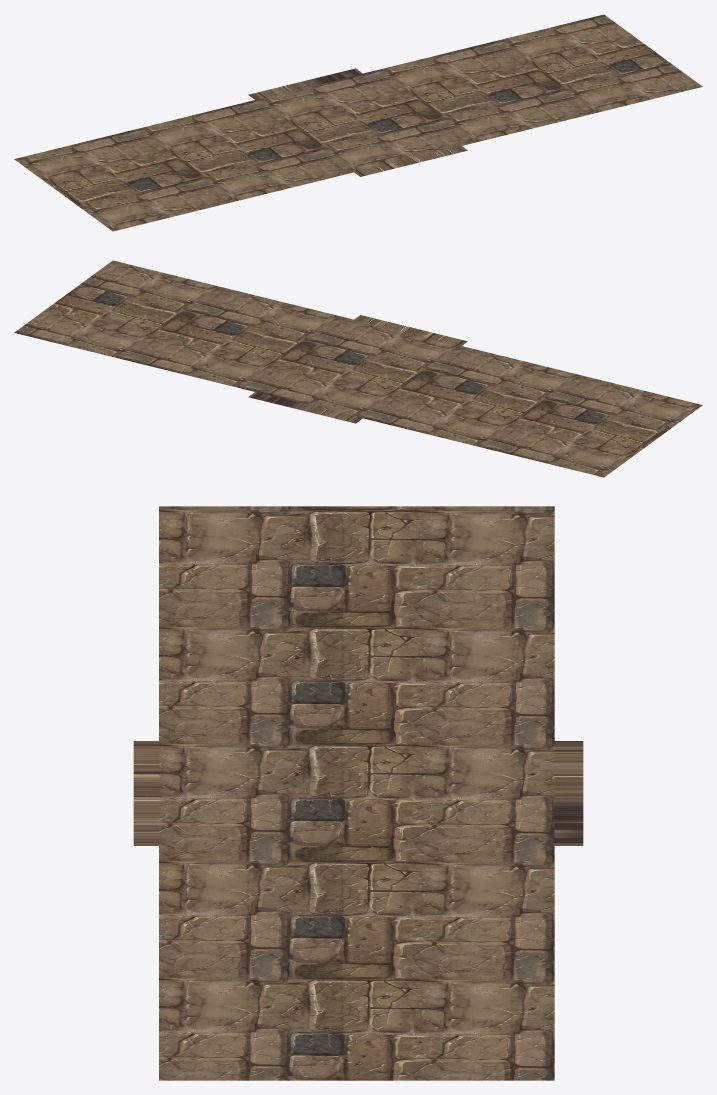
File: A03_move_floor_a.FBX
3 renders of one model, top to bottom at view 1: azimuth 30°, elevation 25°; view 2: azimuth 150°, elevation 25°; view 3: azimuth 270°, elevation 25°, orthographic. The views are drawn at different scales.
Visible parts, largest first — view 1: A03_move_floor_a; view 2: A03_move_floor_a; view 3: A03_move_floor_a.
Boxes of the visible parts, x1=… form: A03_move_floor_a: x1=14, y1=14, x2=702, y2=231; A03_move_floor_a: x1=14, y1=260, x2=702, y2=477; A03_move_floor_a: x1=133, y1=506, x2=583, y2=1080.
Size of the model in its own units: 14.49 by 0.0171 by 4.78.
